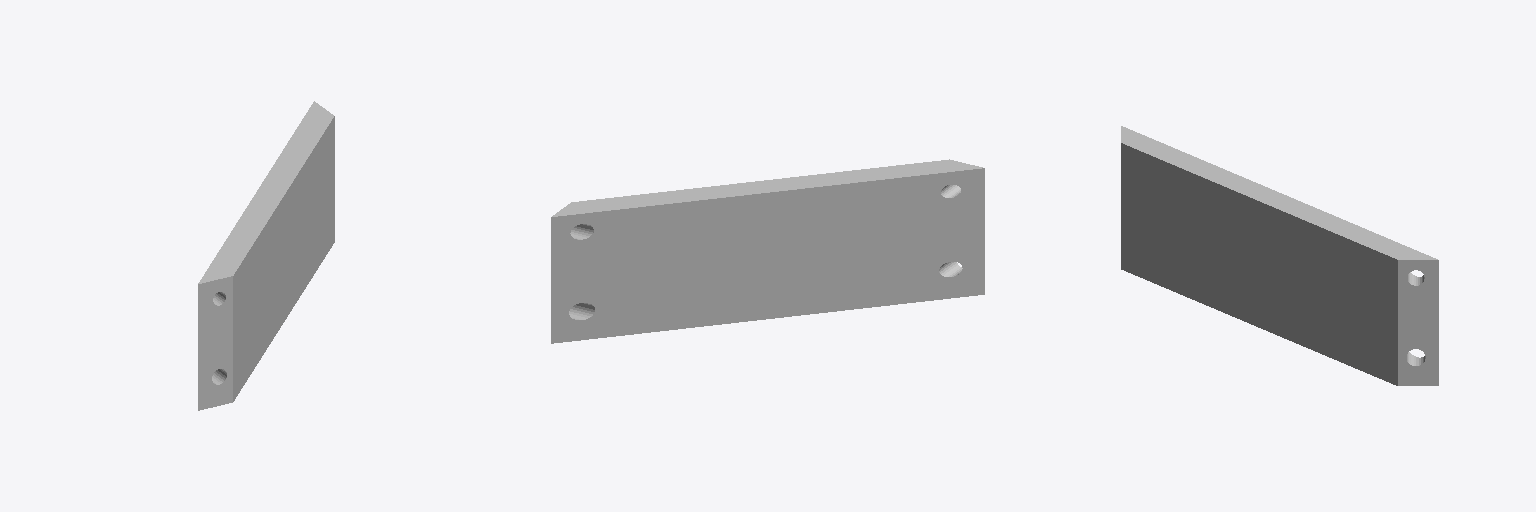
File: original-22.obj
3 views of the same model, side by side, from view 1: azimuth 30°, elevation 25°; view 2: azimuth 150°, elevation 25°; view 3: azimuth 270°, elevation 25° (orthographic).
Parts seen in each view (by area): view 1: mesh25/mesh25-geometry#mesh25-geometry; view 2: mesh25/mesh25-geometry#mesh25-geometry; view 3: mesh25/mesh25-geometry#mesh25-geometry.
Part boxes in pixels (x1,y1,x2,y2): mesh25/mesh25-geometry#mesh25-geometry: (198,101,334,410); mesh25/mesh25-geometry#mesh25-geometry: (551,159,984,343); mesh25/mesh25-geometry#mesh25-geometry: (1121,126,1438,385).
Bounding box in the file's own units: 0.2762 × 0.1212 × 0.2762.